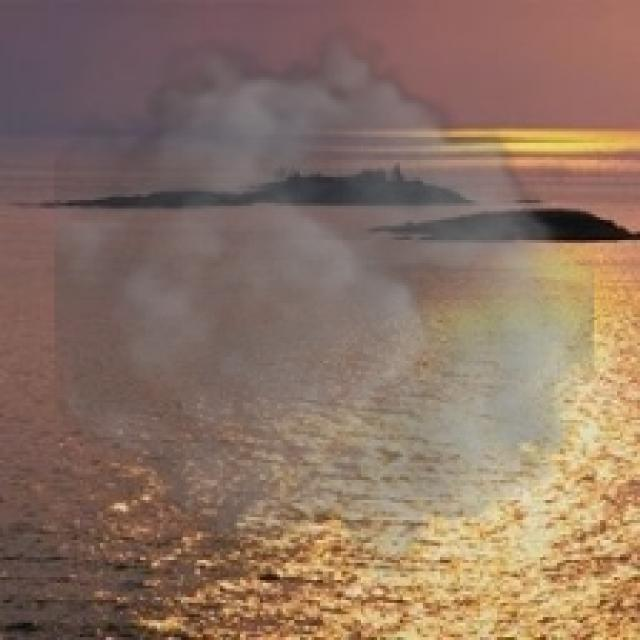Smoke: (55, 20, 594, 583)
